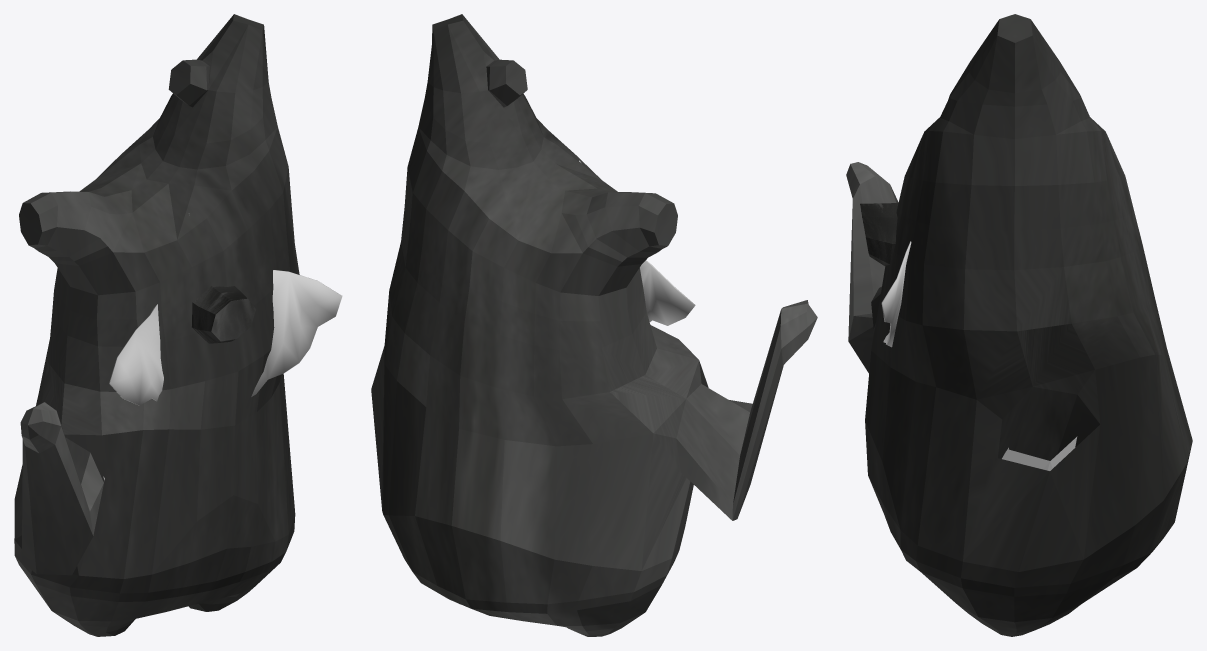
Rendered from frame_0012.obj.
3 views of the same model, side by side, from view 1: azimuth 30°, elevation 25°; view 2: azimuth 150°, elevation 25°; view 3: azimuth 270°, elevation 25° (orthographic). The views are drawn at different scales.
Visible parts, largest first — view 1: korok, leaf, nose; view 2: korok, leaf; view 3: korok, nose, leaf.
Boxes of the visible parts, x1=… form: korok: x1=14, y1=14, x2=299, y2=636; leaf: x1=109, y1=213, x2=342, y2=405; nose: x1=192, y1=285, x2=255, y2=343; korok: x1=371, y1=14, x2=817, y2=636; leaf: x1=579, y1=160, x2=695, y2=325; korok: x1=846, y1=14, x2=1192, y2=636; nose: x1=860, y1=202, x2=898, y2=265; leaf: x1=881, y1=241, x2=911, y2=347.
Bounding box in the file's own units: 1.48 × 2.47 × 1.23.
